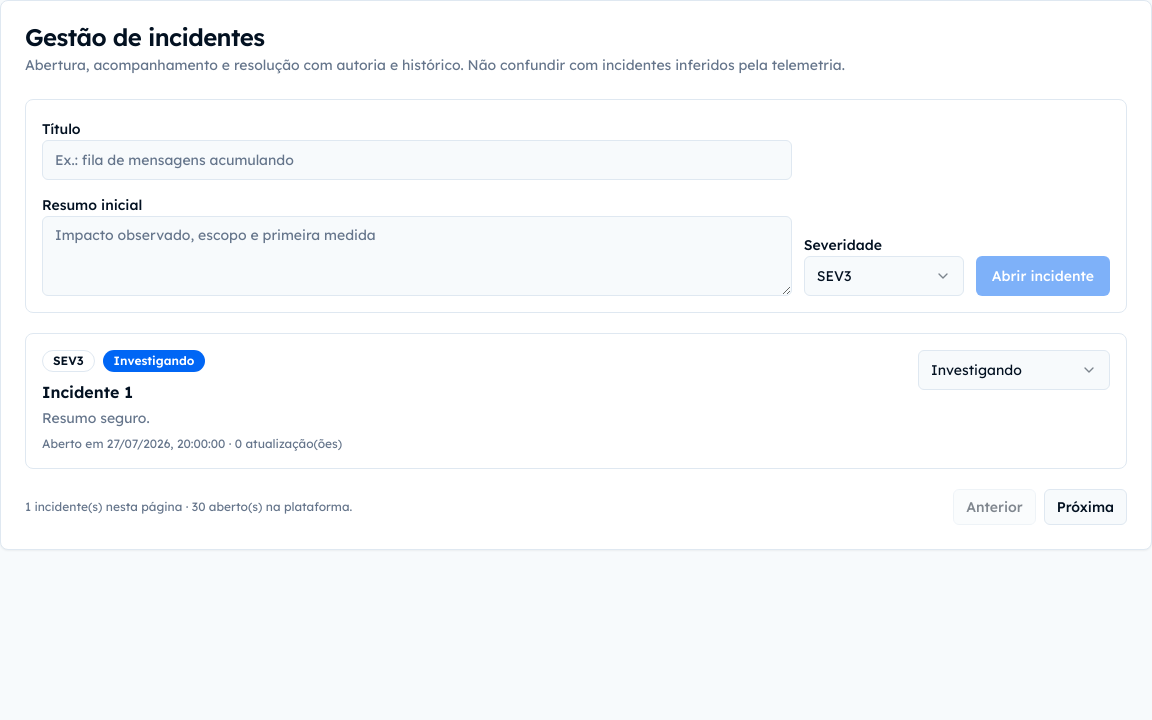
Test: PlatformIncidentPanel › navigates incident cursor pages without conflating page and platform totals
The image size is (1152, 720).
Expected: the heading "Incidente 1" is shown, [42,382,133,402]
Expected: the text "1 incidente(s) nesta página · 30 aberto(s) na plataforma." is shown, [25,499,352,515]
Click the button "Próxima".
click(1085, 507)  # box [1044,489,1127,525]
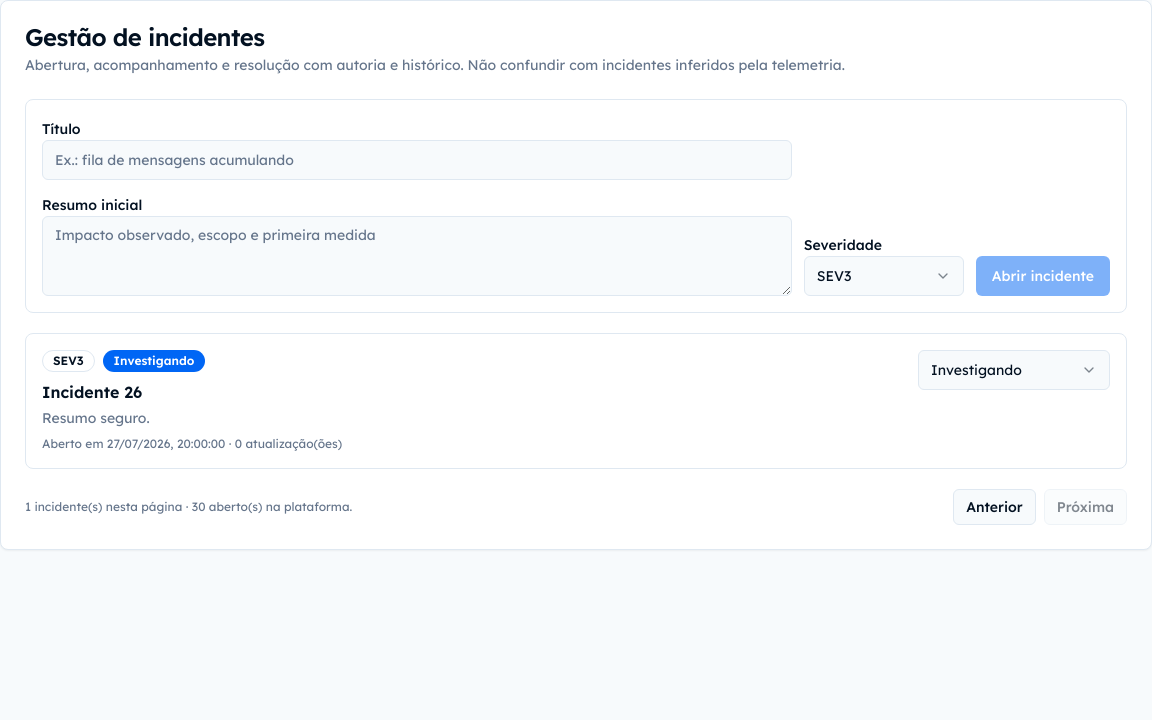
Result: the heading "Incidente 26" is shown at [42,382,142,402]
Result: the button "Anterior" is enabled at [953,489,1036,525]
